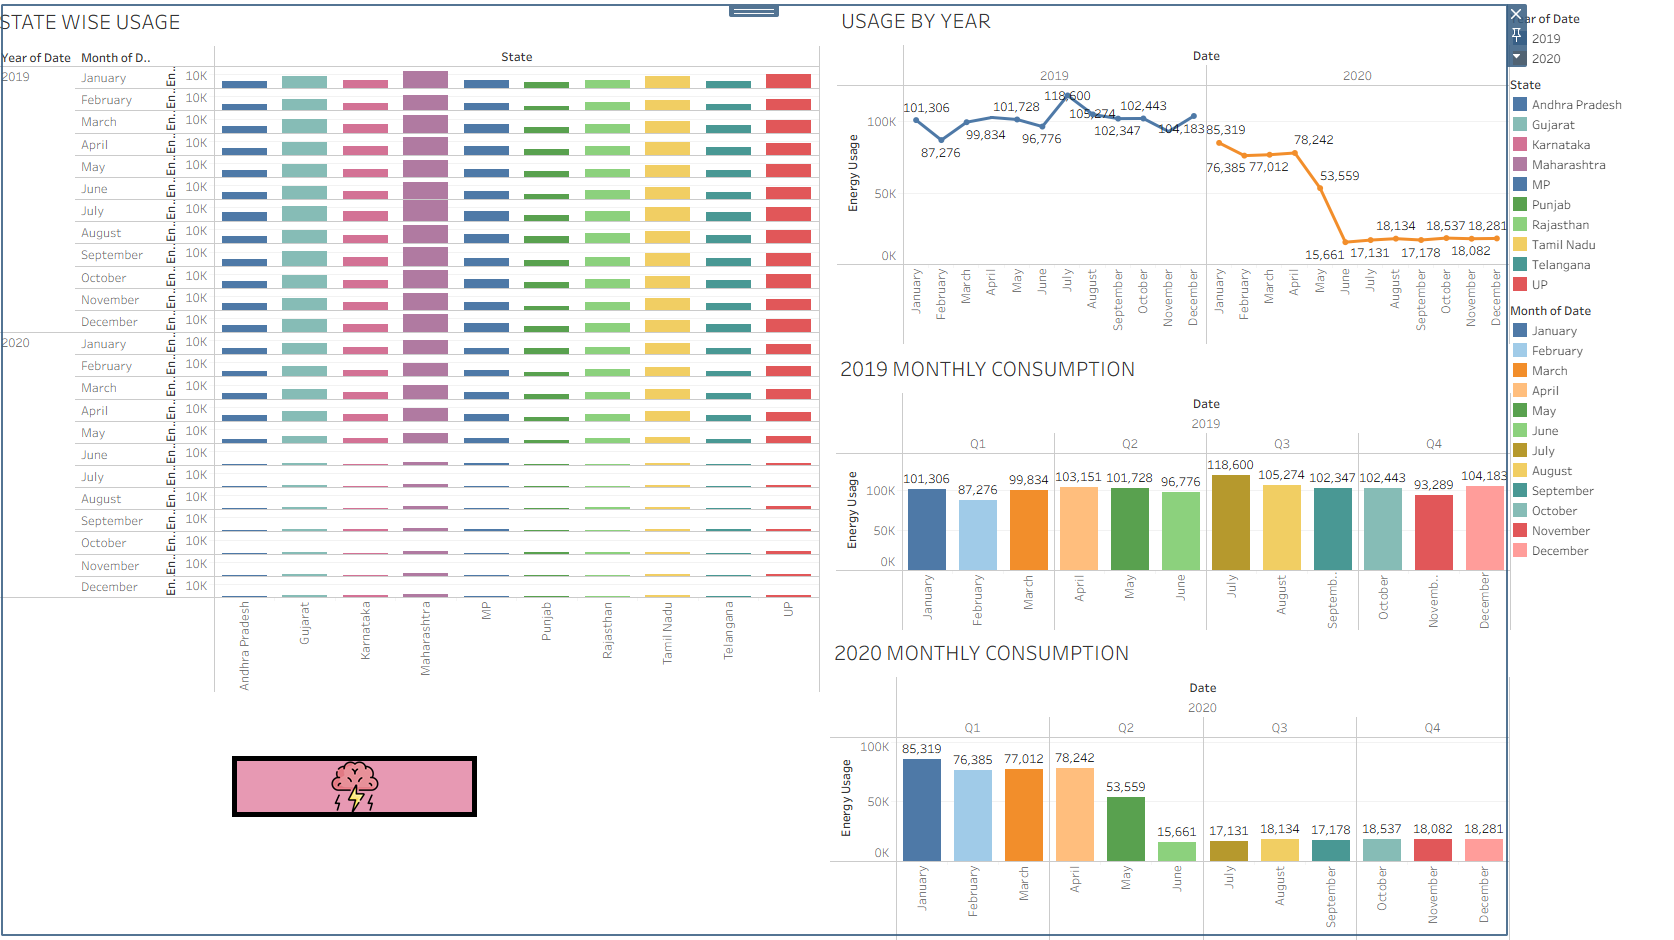

This screenshot's page, from the dashboard's own definition file:
{"tool":"tableau","page":{"name":"Dashboard 3","canvas":[1000,1000],"units":"permille","ordinal":2},"visuals":[{"type":"worksheet","title":"USAGE BY YEAR","mark":"Automatic","rows":["Energy_Usage"],"cols":["Date","Date"],"box":[501.5,4.2,400.8,363.4]},{"type":"worksheet","title":"STATE WISE USAGE","mark":"Automatic","rows":["Date","Date","Energy_Usage"],"cols":["State"],"box":[0,5.3,491.4,732]},{"type":"legend","title":"USAGE BY YEAR","param":"[federated.0mn6zz11gk0i8i1eq4oh012q122a].[yr:Date:ok]","box":[900,8.5,95.3,69.9]},{"type":"legend","title":"STATE WISE USAGE","param":"[federated.0mn6zz11gk0i8i1eq4oh012q122a].[none:State:nk]","box":[900,78.4,95.3,239.4]},{"type":"legend","title":"2019 MONTHLY CONSUMPTION","param":"[federated.0mn6zz11gk0i8i1eq4oh012q122a].[mn:Date:ok]","box":[900,317.8,95.3,281.8]},{"type":"worksheet","title":"2019 MONTHLY CONSUMPTION","mark":"Bar","rows":["Energy_Usage"],"cols":["Date","Date","Date"],"box":[500.9,372.9,402,297.7]},{"type":"worksheet","title":"2020 MONTHLY CONSUMPTION","mark":"Bar","rows":["Energy_Usage"],"cols":["Date","Date","Date"],"box":[497.3,673.7,405,326.3]},{"type":"dashboard-object","box":[141.2,803,145.9,64.6]}]}

Visuals, with their boxes on the dashboard's canvas, which has no fixed pixel size, in thousandths of its width and height (x1, y1, x2, y2). These are canvas units, not pixel positions in the 1674x940 screenshot, which may show the page scaled, cropped or inside an application window:
"USAGE BY YEAR" worksheet: (502, 4, 902, 368)
"STATE WISE USAGE" worksheet: (0, 5, 491, 737)
"USAGE BY YEAR" legend: (900, 8, 995, 78)
"STATE WISE USAGE" legend: (900, 78, 995, 318)
"2019 MONTHLY CONSUMPTION" legend: (900, 318, 995, 600)
"2019 MONTHLY CONSUMPTION" worksheet (Bar marks): (501, 373, 903, 671)
"2020 MONTHLY CONSUMPTION" worksheet (Bar marks): (497, 674, 902, 1000)
dashboard-object: (141, 803, 287, 868)
